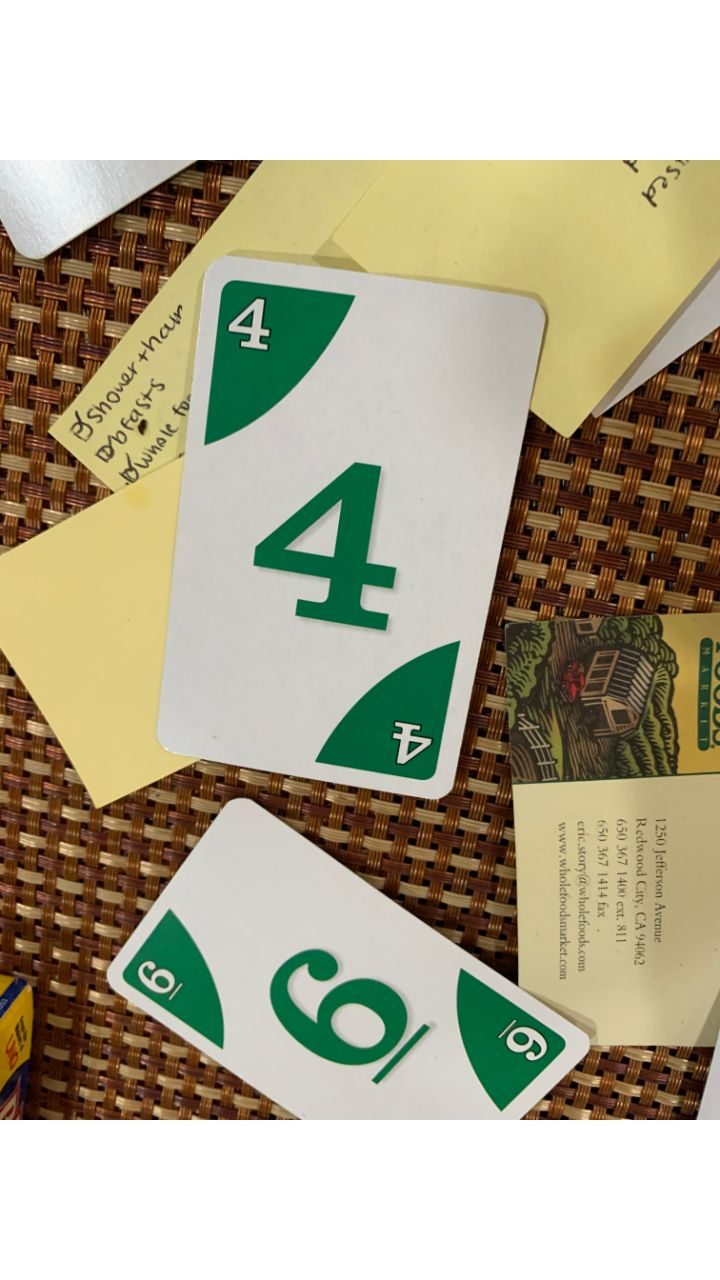four: (152, 256, 554, 817)
six: (109, 792, 597, 1121)
